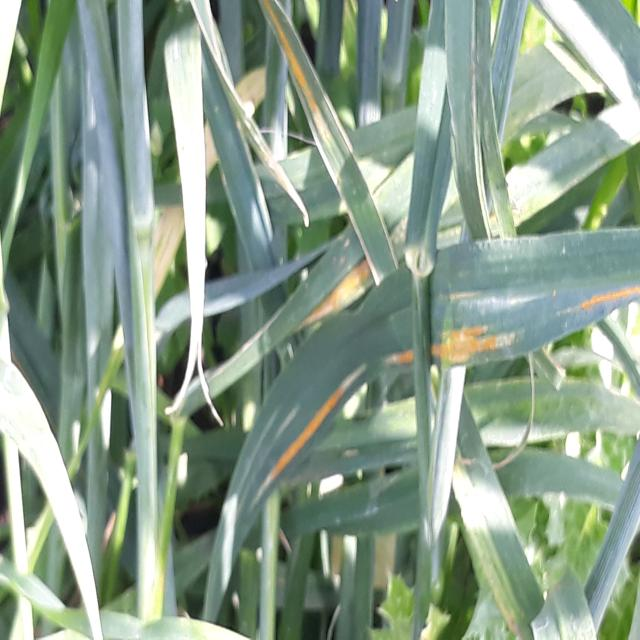yellow_rust: (249, 0, 352, 163), (255, 376, 363, 514), (384, 313, 528, 382), (278, 259, 390, 329), (550, 252, 640, 334)
